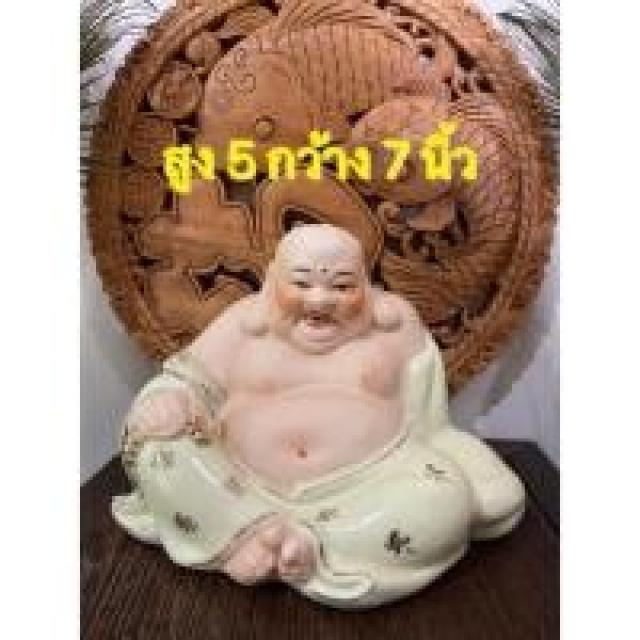Smiling Buddha: (152, 225, 451, 580)
